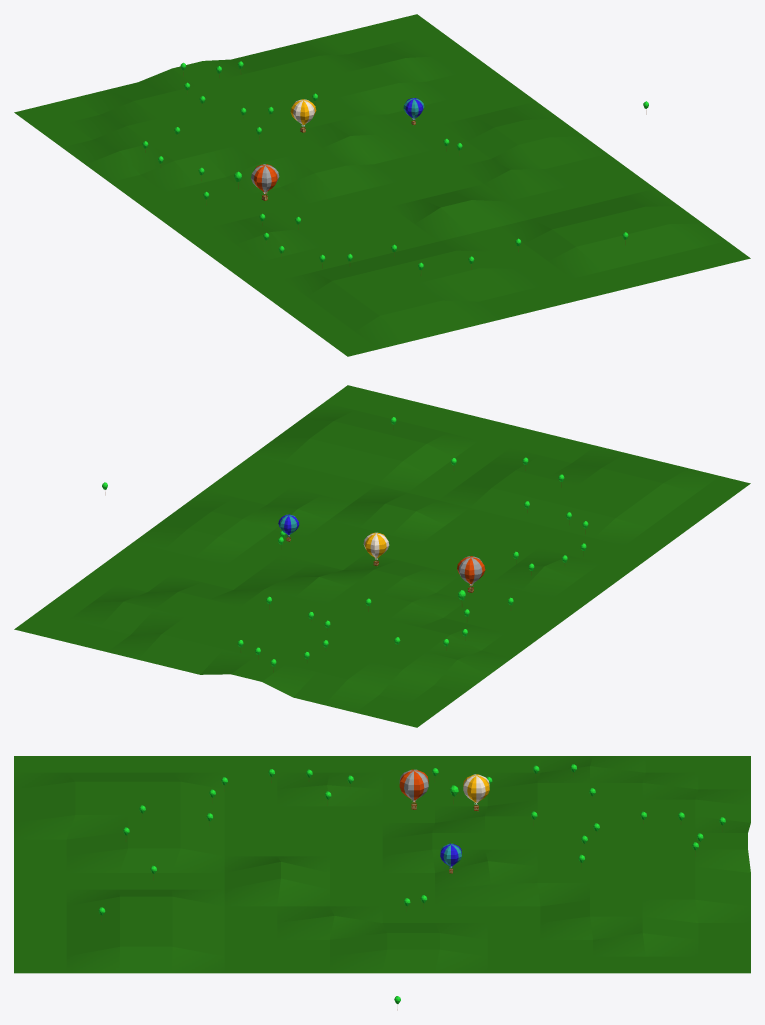
File: BMBalloonScene11.fbx
3 renders of one model, top to bottom at view 1: azimuth 30°, elevation 25°; view 2: azimuth 150°, elevation 25°; view 3: azimuth 270°, elevation 25°, orthographic. The views are drawn at different scales.
Visible parts, largest first — view 1: Plane, HotAirBalloon_01-red.001; view 2: Plane, HotAirBalloon_01-red.001; view 3: Plane, HotAirBalloon_01-red.001, HotAirBalloon_01-orange.
Boxes of the visible parts, bbox=[...] form: Plane: bbox=[14, 14, 750, 356]; HotAirBalloon_01-red.001: bbox=[251, 164, 279, 194]; Plane: bbox=[14, 385, 750, 727]; HotAirBalloon_01-red.001: bbox=[457, 556, 485, 585]; Plane: bbox=[14, 756, 750, 973]; HotAirBalloon_01-red.001: bbox=[399, 769, 428, 802]; HotAirBalloon_01-orange: bbox=[463, 774, 489, 804].
Size of the model in its own units: 20125 by 2583 by 24514.
